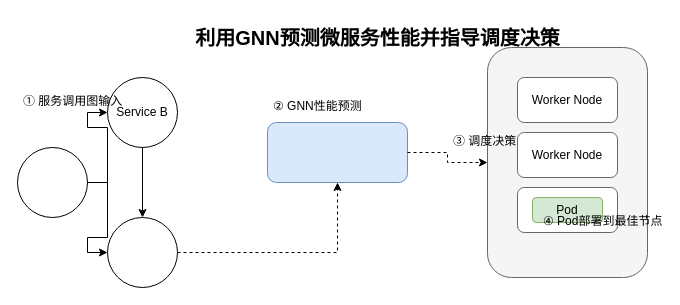
This 680x305 diagram has some shape labels left out. The shapes that lost their labels are listed below. From the top down, each one's centre as x and y in pixels, then its label:
(x=337, y=152): GNN Predictor
(x=52, y=182): Service A
(x=142, y=252): Service C
